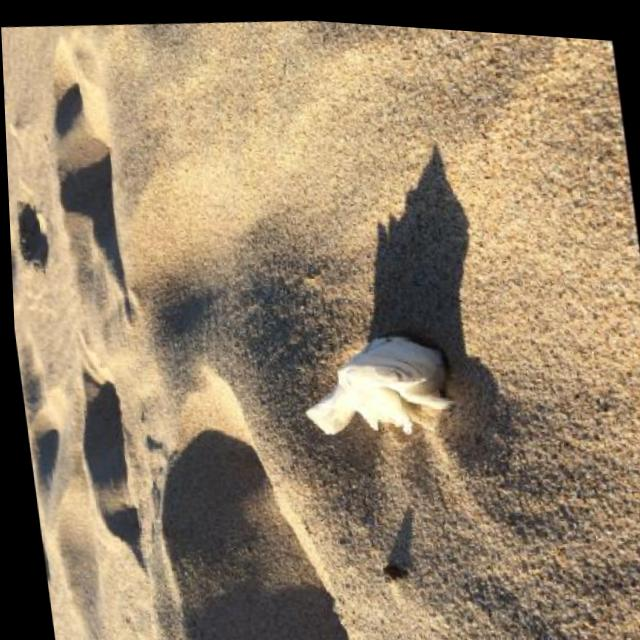other: (294, 324, 464, 447)
